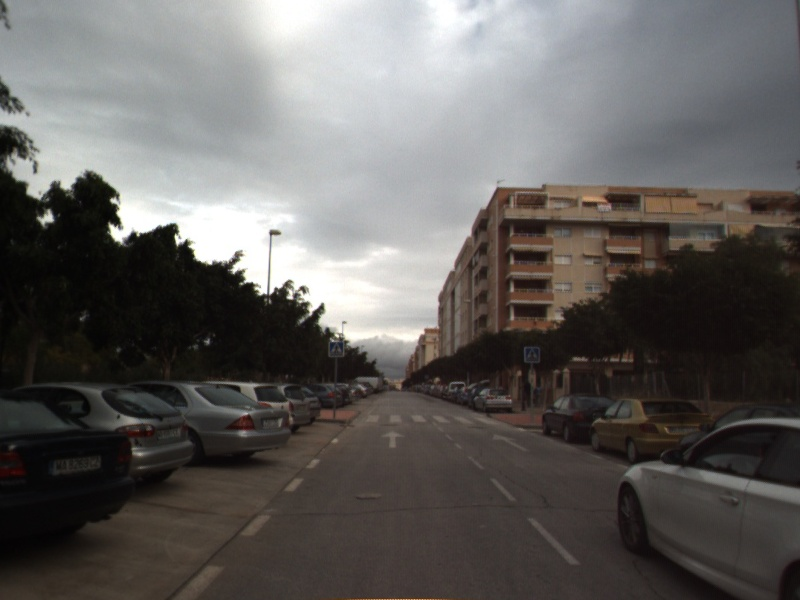STRAIGHT: (490, 432, 531, 453), (379, 428, 408, 450)
